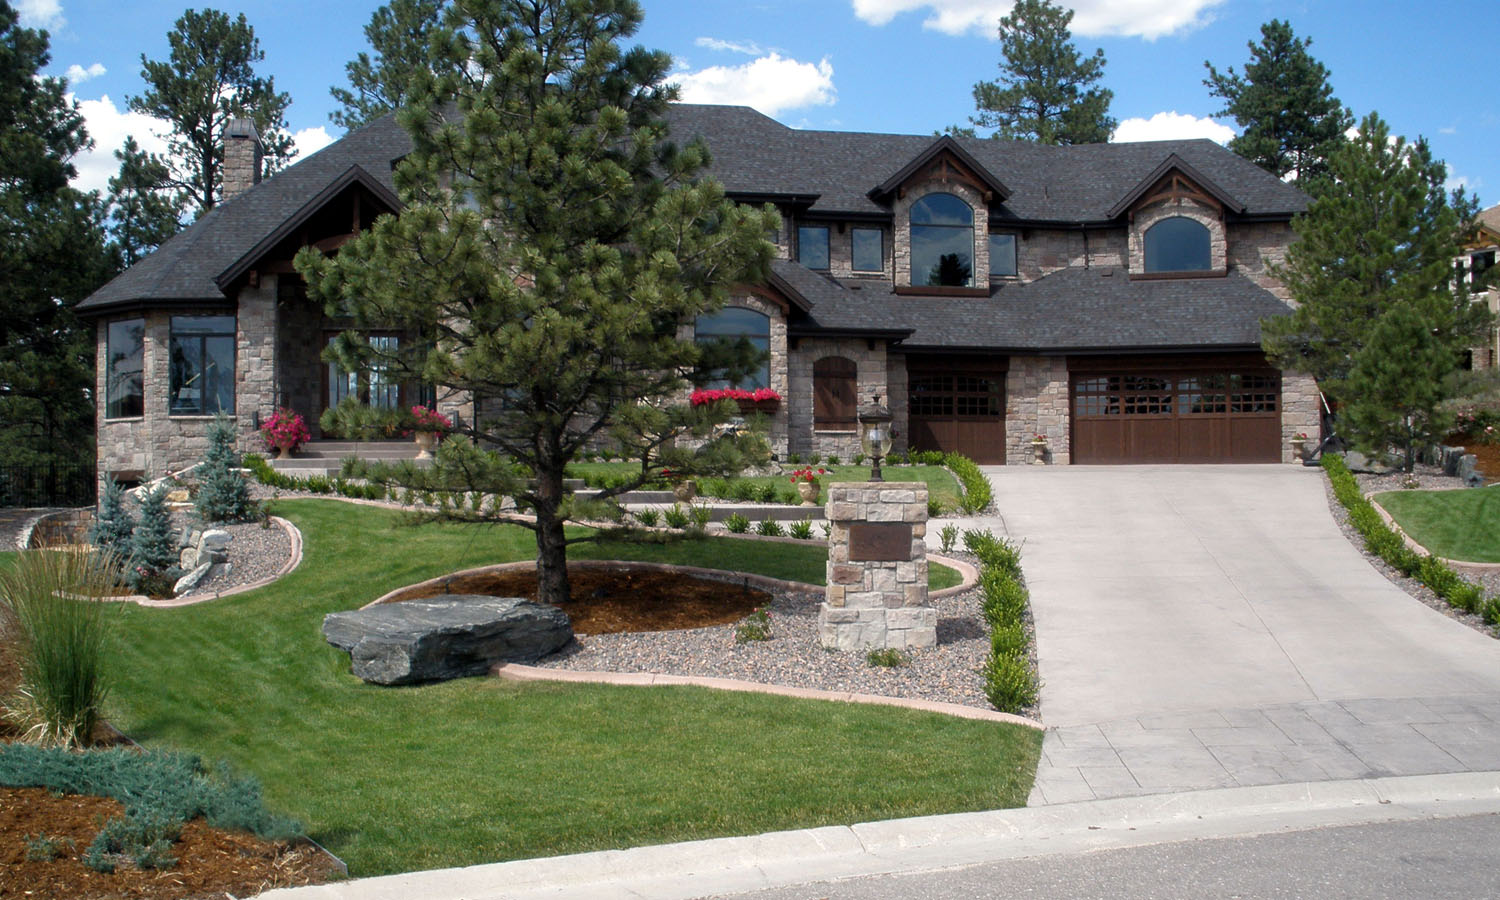tree: (302, 2, 785, 599), (1278, 122, 1498, 487)
